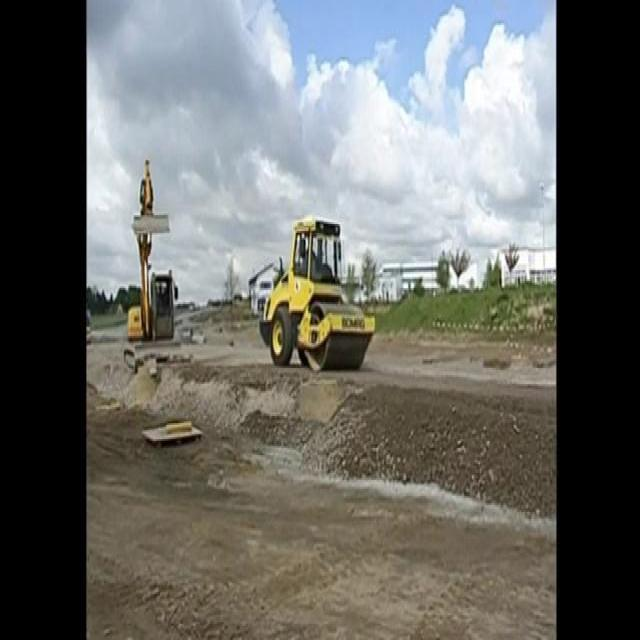excavator: (125, 160, 176, 343)
